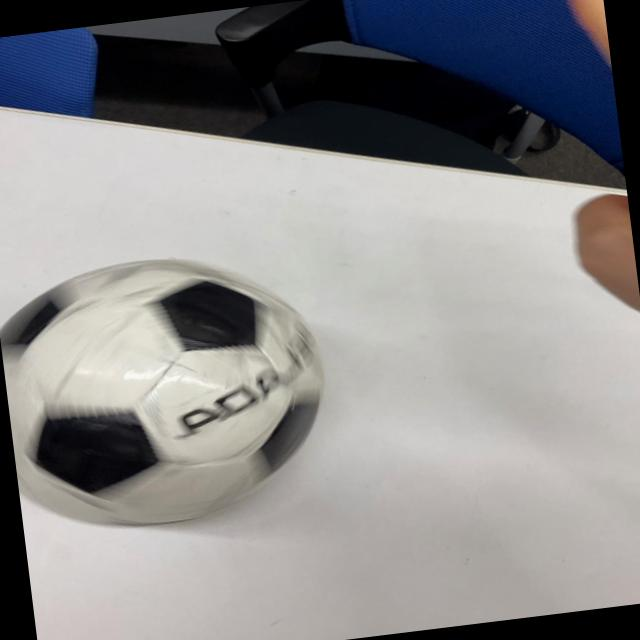Soccer Ball: (0, 242, 331, 543)
